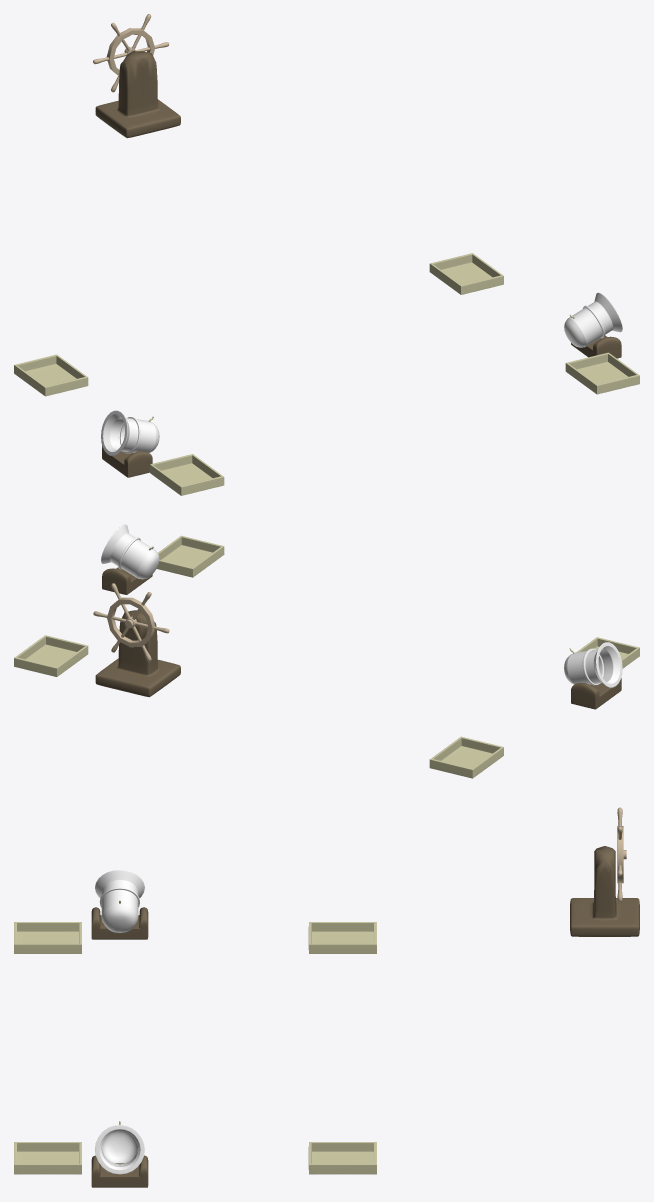
File: objects without boat.fbx
The picture shows the model from 3 angles, top to bottom: view 1: azimuth 30°, elevation 25°; view 2: azimuth 150°, elevation 25°; view 3: azimuth 270°, elevation 25°; orthographic projection. The views are drawn at different scales.
Parts seen in each view (by area): view 1: box, Support_Gouvernail_VB, canon_VB, Support_VB, Circle_VB; view 2: box, canon_VB, Support_Gouvernail_VB, Support_VB, Circle_VB; view 3: box, canon_VB, Support_Gouvernail_VB, Support_VB.
Boxes of the visible parts, x1,y1,x2,y2 form: box: [14, 253, 639, 495]; Support_Gouvernail_VB: [95, 51, 180, 138]; canon_VB: [101, 292, 622, 455]; Support_VB: [102, 335, 621, 477]; Circle_VB: [106, 28, 155, 75]; box: [14, 535, 639, 778]; canon_VB: [101, 524, 622, 687]; Support_Gouvernail_VB: [95, 610, 180, 697]; Support_VB: [102, 567, 621, 709]; Circle_VB: [107, 597, 155, 647]; box: [14, 922, 376, 1174]; canon_VB: [95, 870, 144, 1174]; Support_Gouvernail_VB: [570, 846, 639, 936]; Support_VB: [91, 907, 148, 1187].
Bounding box in the file's own units: 4.96 × 2.06 × 4.88.
